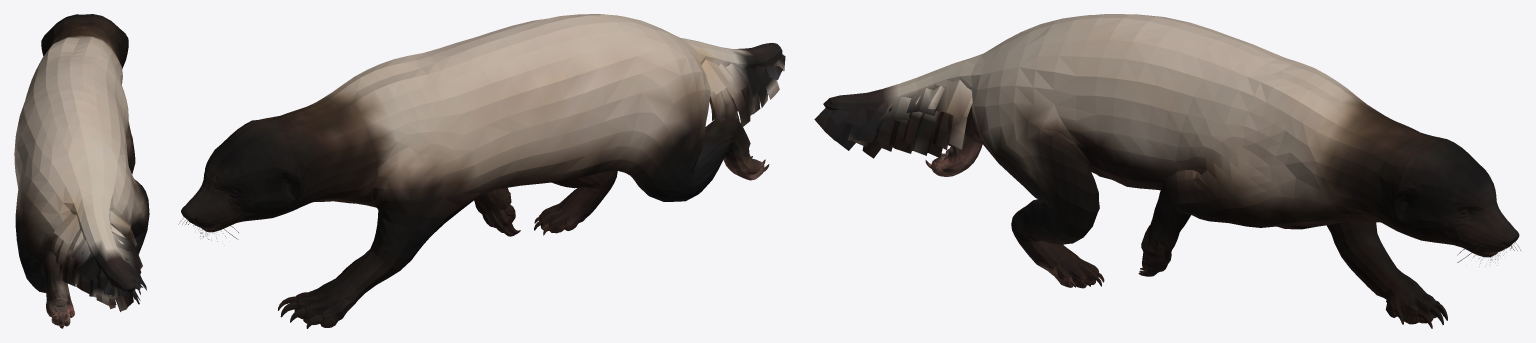
Rendered from badger.mesh.glb.
3 renders of one model, left to right at view 1: azimuth 30°, elevation 25°; view 2: azimuth 150°, elevation 25°; view 3: azimuth 270°, elevation 25°, orthographic. The views are drawn at different scales.
Visible parts, largest first — view 1: root; view 2: root; view 3: root.
Boxes of the visible parts, bbox=[...] form: root: bbox=[14, 14, 149, 328]; root: bbox=[178, 14, 785, 328]; root: bbox=[814, 14, 1520, 328].
Bounding box in the file's own units: 0.4893 × 0.3313 × 0.8522.
Materials: 1 (1 with a texture image).
